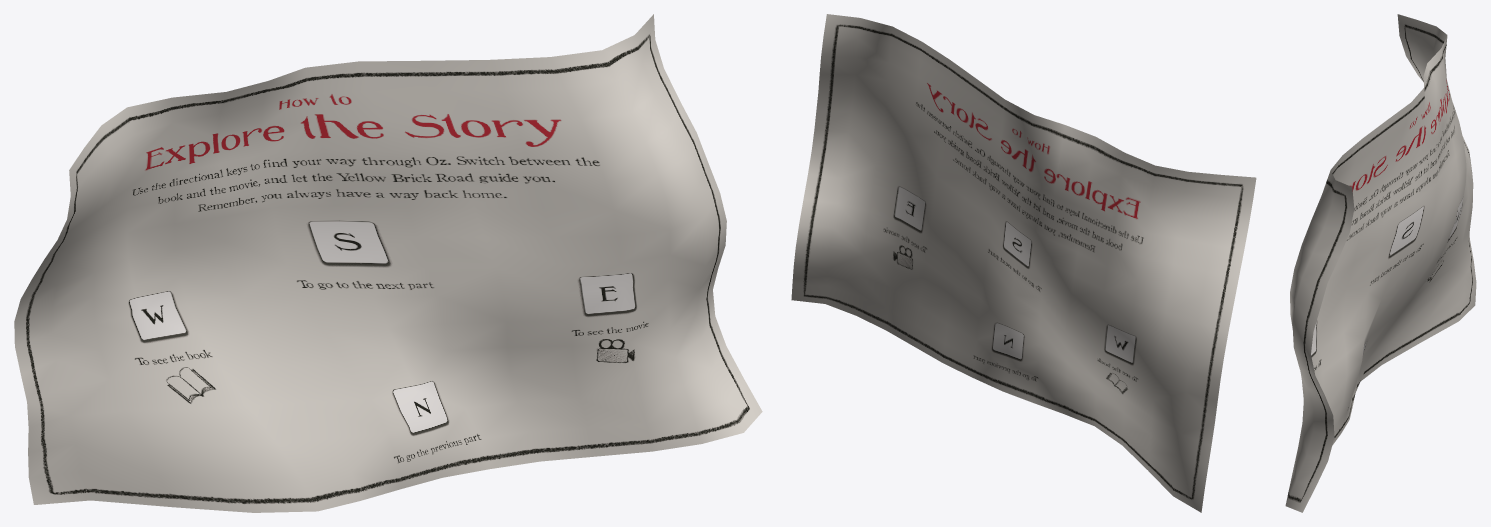
3 views of the same model, side by side, from view 1: azimuth 30°, elevation 25°; view 2: azimuth 150°, elevation 25°; view 3: azimuth 270°, elevation 25° (orthographic). The views are drawn at different scales.
Parts seen in each view (by area): view 1: About.001; view 2: About.001; view 3: About.001.
Boxes of the visible parts, x1,y1,x2,y2 form: About.001: (14,14,762,512); About.001: (791,14,1256,512); About.001: (1285,14,1476,512).
Bounding box in the file's own units: 0.1633 × 0.1027 × 0.0558.
Materials: 1 (1 with a texture image).
